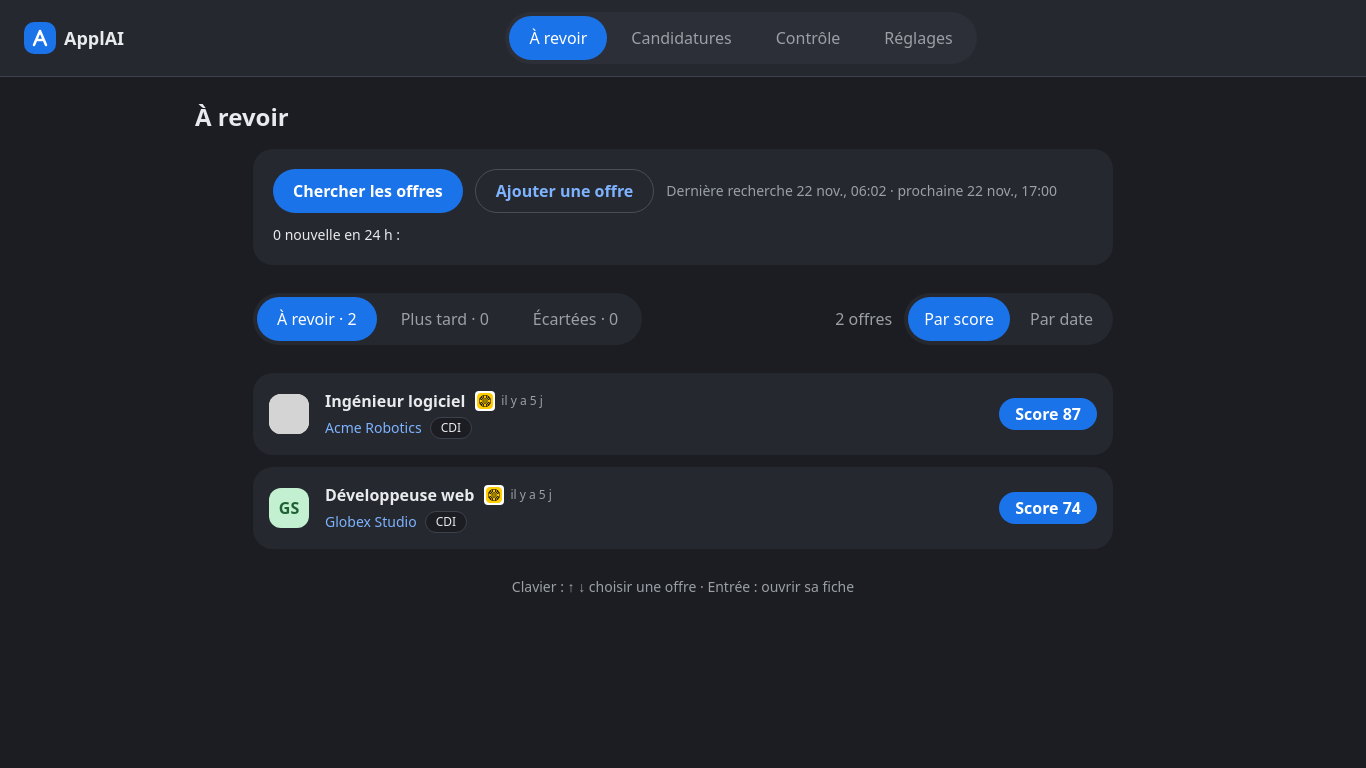
a card › shows every field of the result, in fr
The image size is (1366, 768).
What coordinates should you click on to do the following:
click the button "Ingénieur logiciel il y a 5 j Acme Robotics CDI Score 87"
I would click on:
 (289, 414)
Its box is [253,373,1113,455].
(page scrolled)
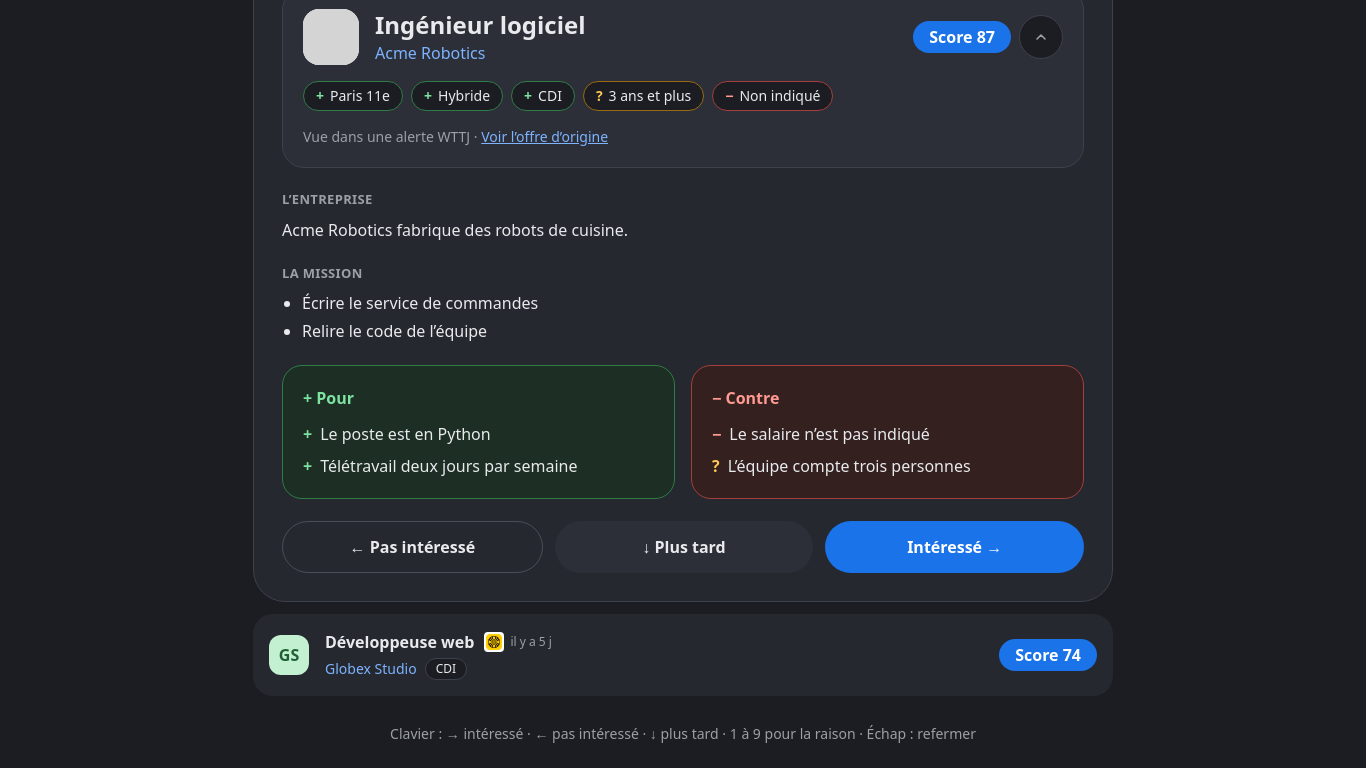
Now the text "Acme Robotics" is shown, box [375,42,486,64]
Now the text "Paris 11e" is shown, box [330,86,390,106]
Now the text "Hybride" is shown, box [438,86,490,106]
